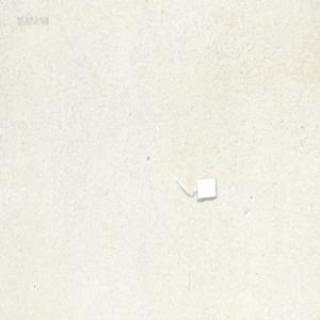LuggageTagtrack_idkeyframe: (173, 173, 216, 201)
